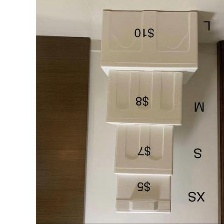foam_box: (96, 6, 203, 87), (100, 66, 188, 130), (109, 121, 177, 178), (111, 171, 174, 216)
